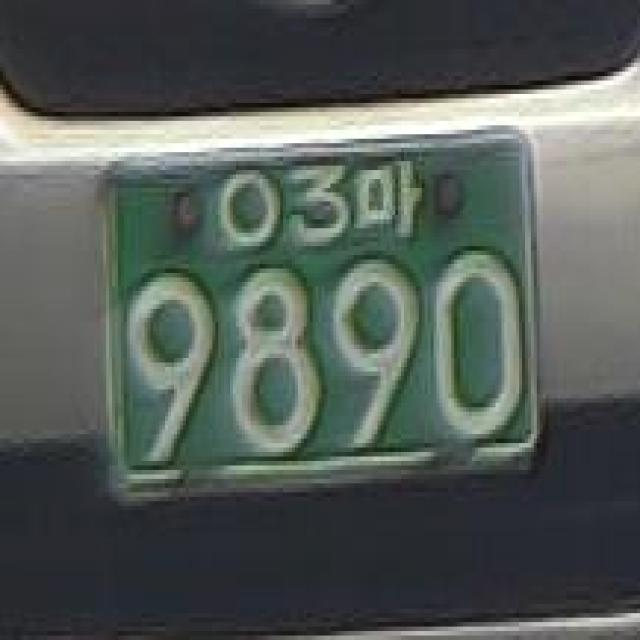illegal_plate: (83, 112, 564, 527)
